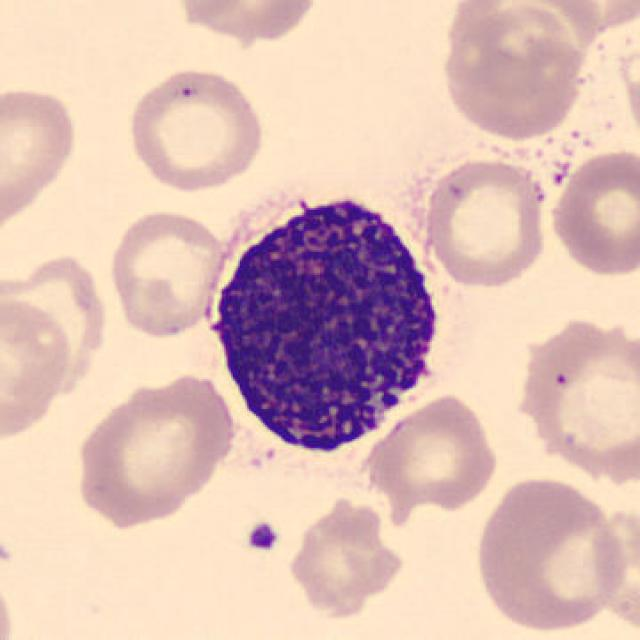Basophil: (194, 176, 457, 460)
Platelets: (244, 518, 282, 556)
RBC: (71, 367, 240, 529), (469, 472, 633, 634), (510, 312, 638, 487), (438, 2, 590, 141), (122, 64, 268, 195), (421, 153, 551, 291), (361, 390, 503, 514), (5, 247, 112, 407), (281, 492, 409, 622), (105, 204, 227, 340), (0, 81, 82, 236), (546, 146, 638, 278), (0, 287, 76, 428), (585, 499, 638, 638), (172, 0, 324, 46), (533, 0, 640, 37), (615, 25, 640, 150), (0, 560, 19, 640)
